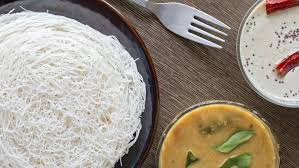idyappa: (1, 11, 150, 168)
